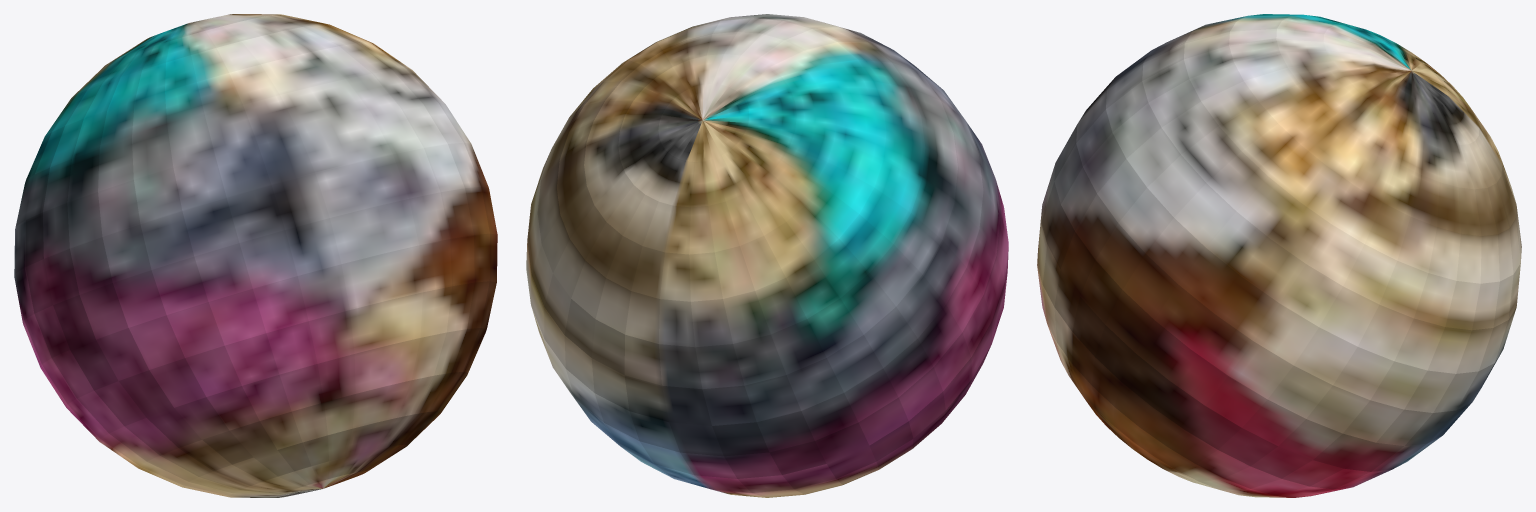
Rendered from clothes2.fbx.
3 views of the same model, side by side, from view 1: azimuth 30°, elevation 25°; view 2: azimuth 150°, elevation 25°; view 3: azimuth 270°, elevation 25° (orthographic).
Parts seen in each view (by area): view 1: Sphere; view 2: Sphere; view 3: Sphere.
Boxes of the visible parts, left/top/right/bottom form: Sphere: left=14, top=14, right=497, bottom=497; Sphere: left=526, top=14, right=1008, bottom=497; Sphere: left=1037, top=14, right=1521, bottom=497.
Bounding box in the file's own units: 101 × 101 × 101.
1 material, 1 textured.
